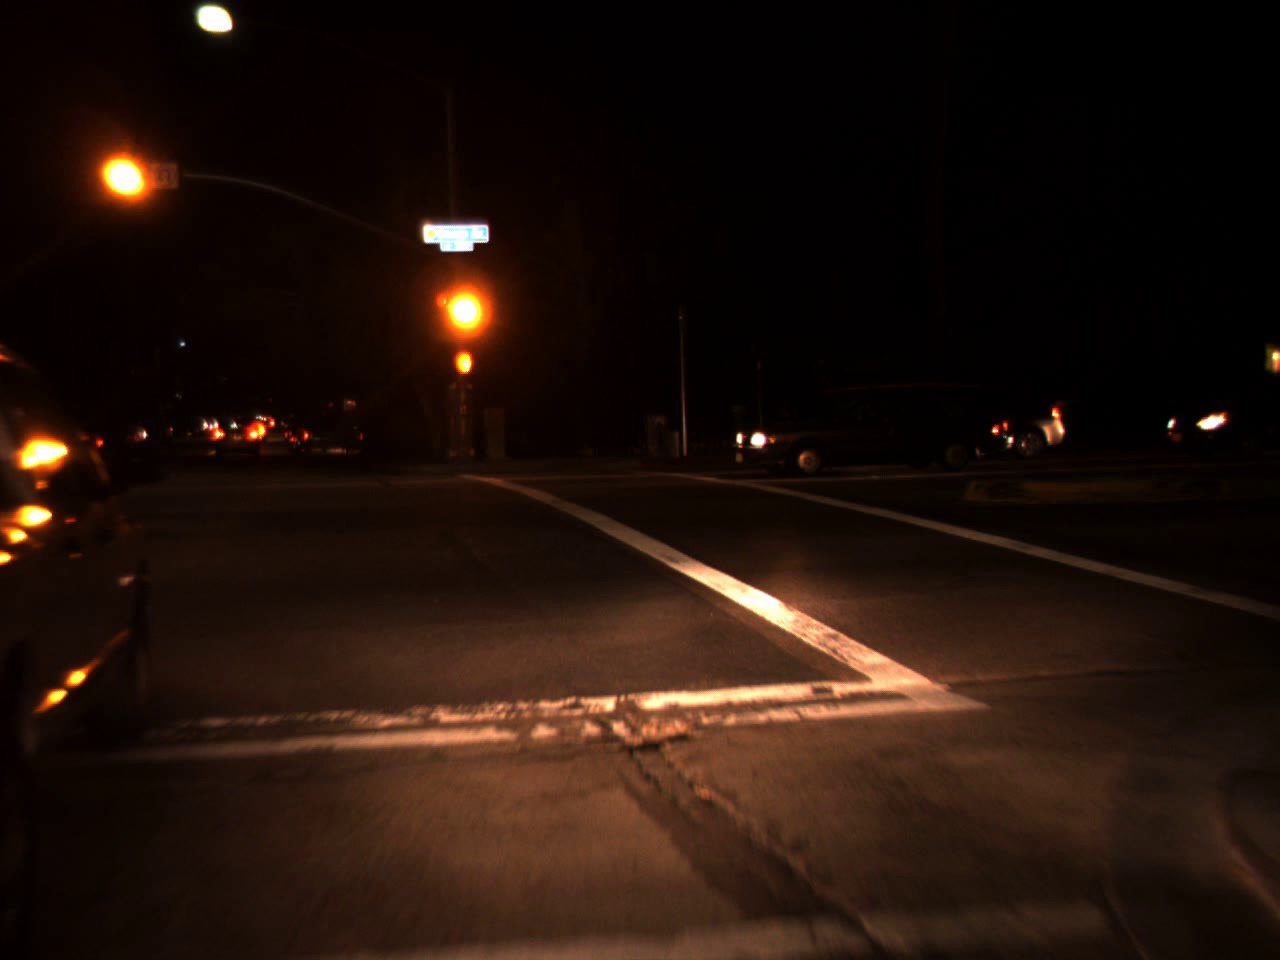warning: (104, 145, 144, 205), (447, 284, 480, 334)
